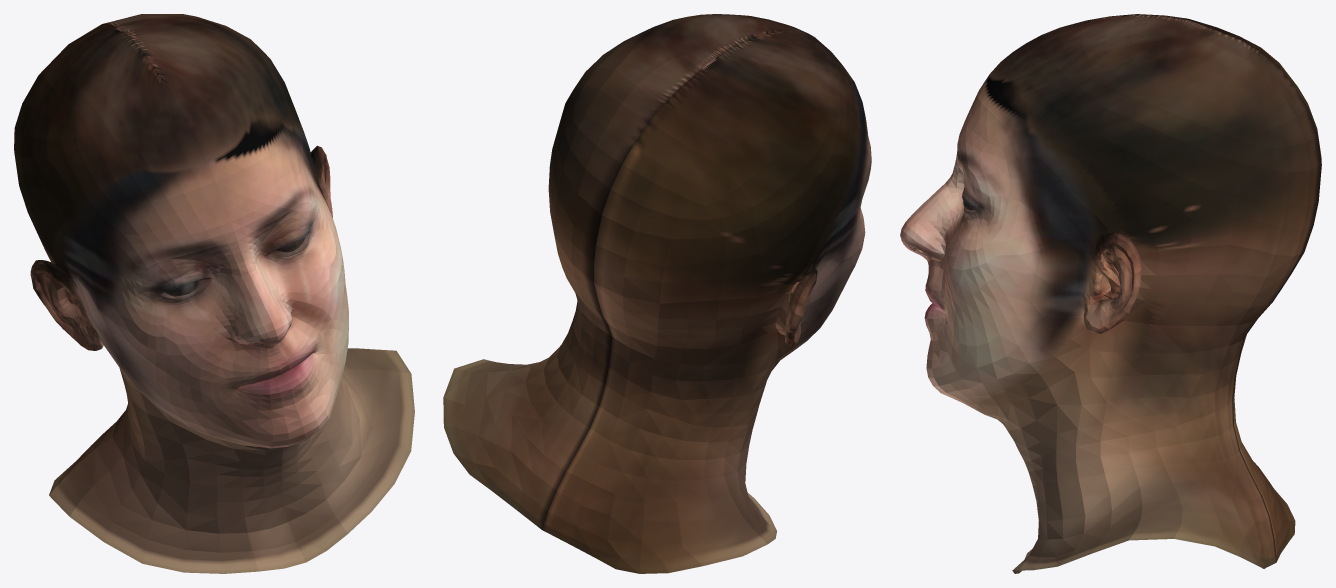
File: face_video_frame0433.obj
3 renders of one model, left to right at view 1: azimuth 30°, elevation 25°; view 2: azimuth 150°, elevation 25°; view 3: azimuth 270°, elevation 25°, orthographic.
Size of the model in its own units: 0.2349 by 0.3111 by 0.232.
1 material, 1 textured.
